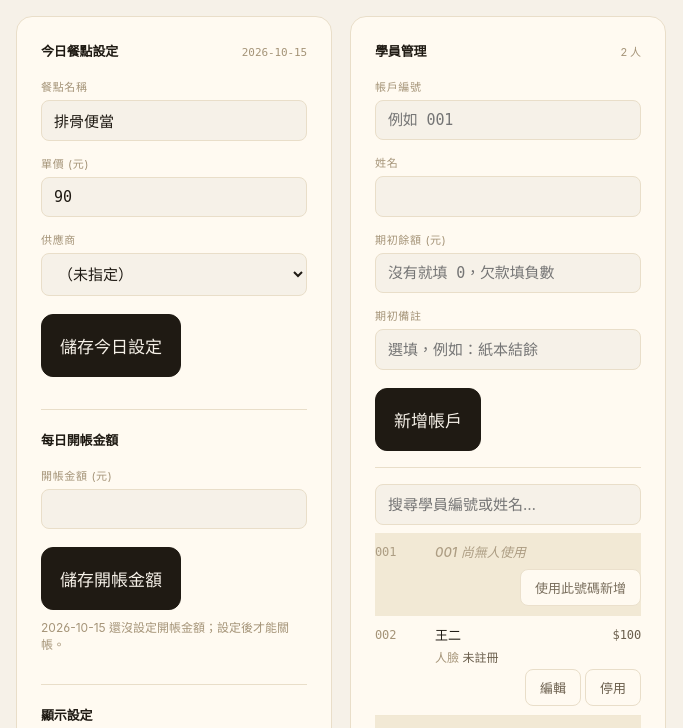
Test: AdminScreen - 學員編號排序、缺號列與改編號 (U3 #7, #9) › 搜尋框有文字時不顯示缺號列，只顯示符合搜尋的帳戶
Type "王" into the field labelled "搜尋學員".
click(508, 504); type("王")  # box [375, 484, 641, 525]
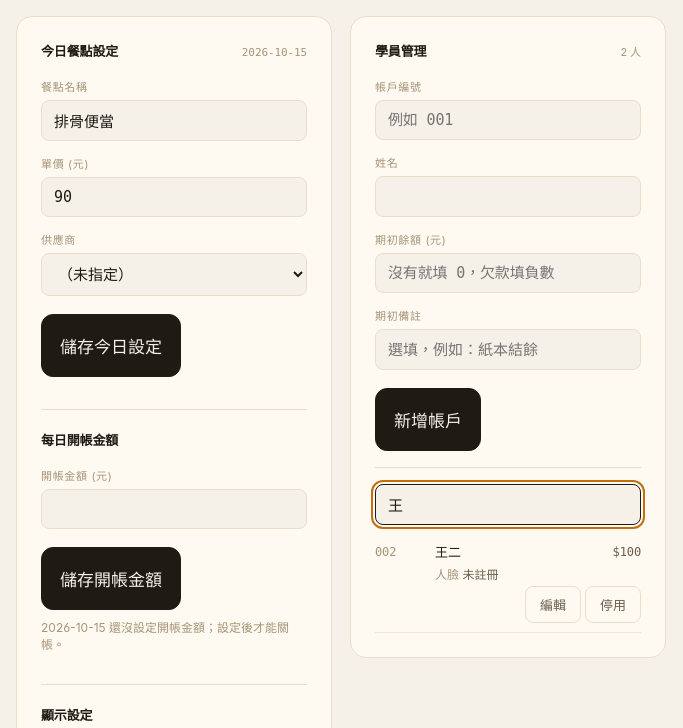
Expected: the text "王二" is shown, [435, 544, 461, 560]
Expected: the text "尚無人使用" is gone
